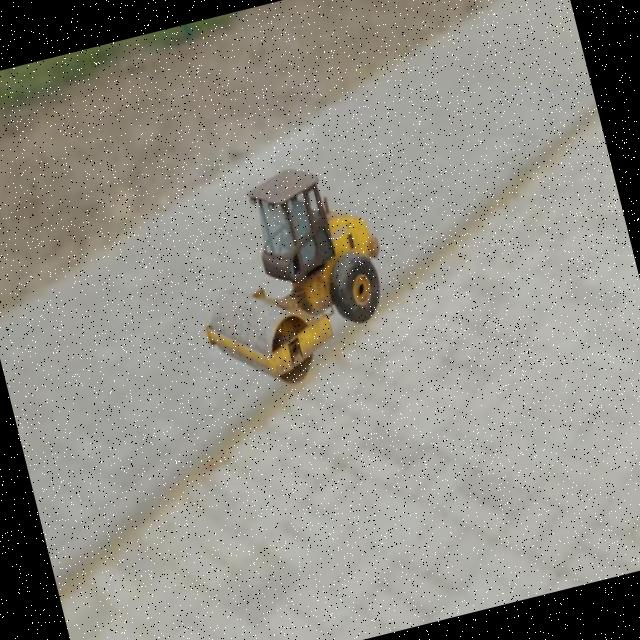Roller: (170, 150, 408, 402)
